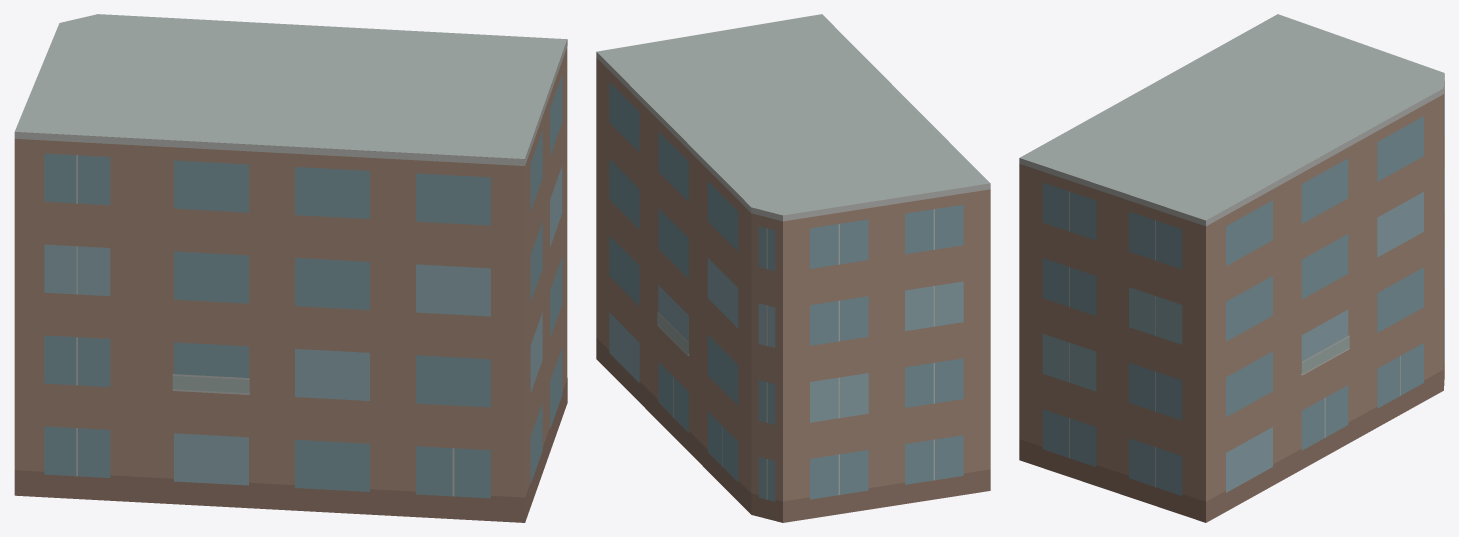
Rendered from survey-upis-32626558.glb.
3 views of the same model, side by side, from view 1: azimuth 30°, elevation 25°; view 2: azimuth 150°, elevation 25°; view 3: azimuth 270°, elevation 25° (orthographic). The views are drawn at different scales.
Parts seen in each view (by area): view 1: survey-upis-32626558.tmp; view 2: survey-upis-32626558.tmp; view 3: survey-upis-32626558.tmp.
Part boxes in pixels (<box>): survey-upis-32626558.tmp: <box>14,14,567,522</box>; survey-upis-32626558.tmp: <box>596,14,990,522</box>; survey-upis-32626558.tmp: <box>1019,14,1444,522</box>.
Bounding box in the file's own units: 18.63 × 12.7 × 16.2.
